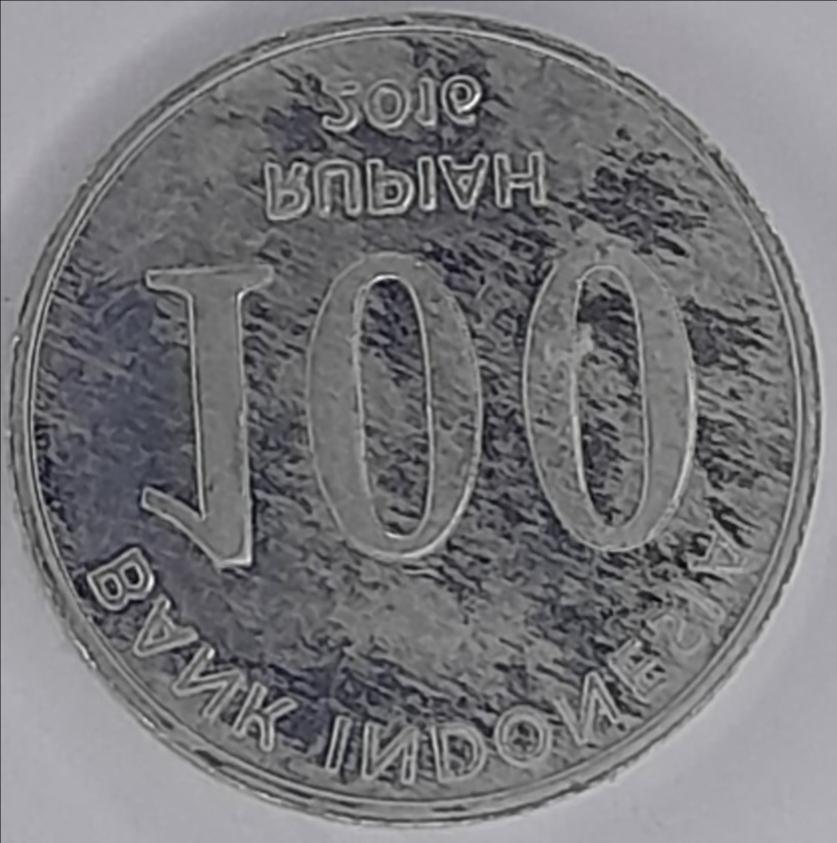coin_100_e2016: (2, 3, 830, 828)
